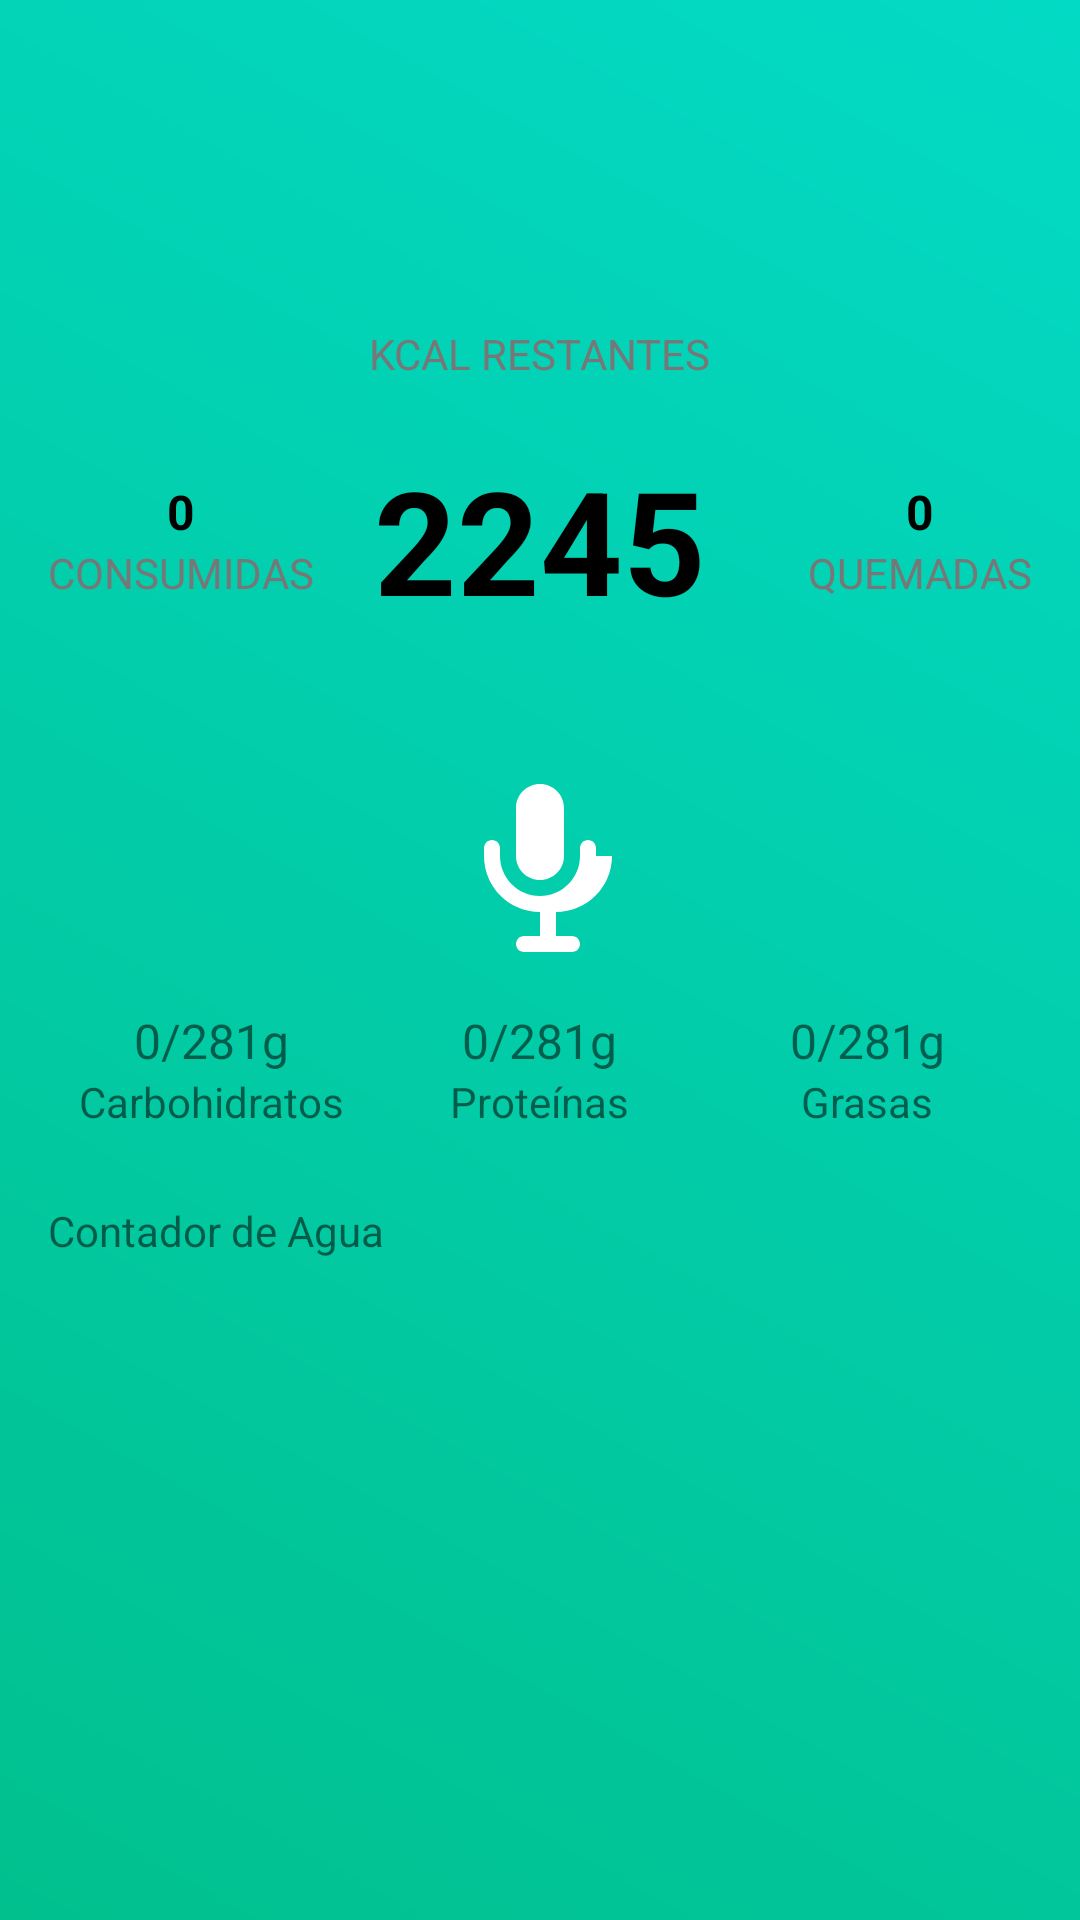

Icon click points for this 1080 x 1920 phone screenshot, format point (x, y):
Micrófono: point (548, 868)
